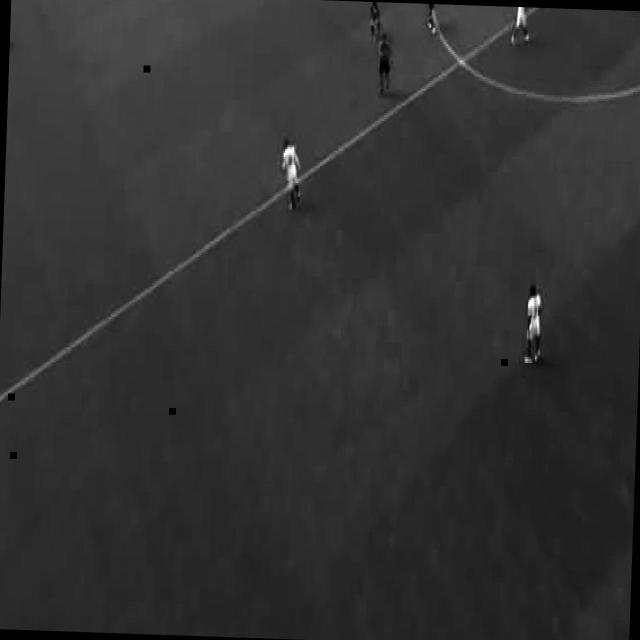player-white: (278, 136, 302, 210), (523, 282, 543, 364), (377, 33, 393, 95), (512, 6, 530, 44), (367, 2, 381, 36), (421, 3, 435, 35)
